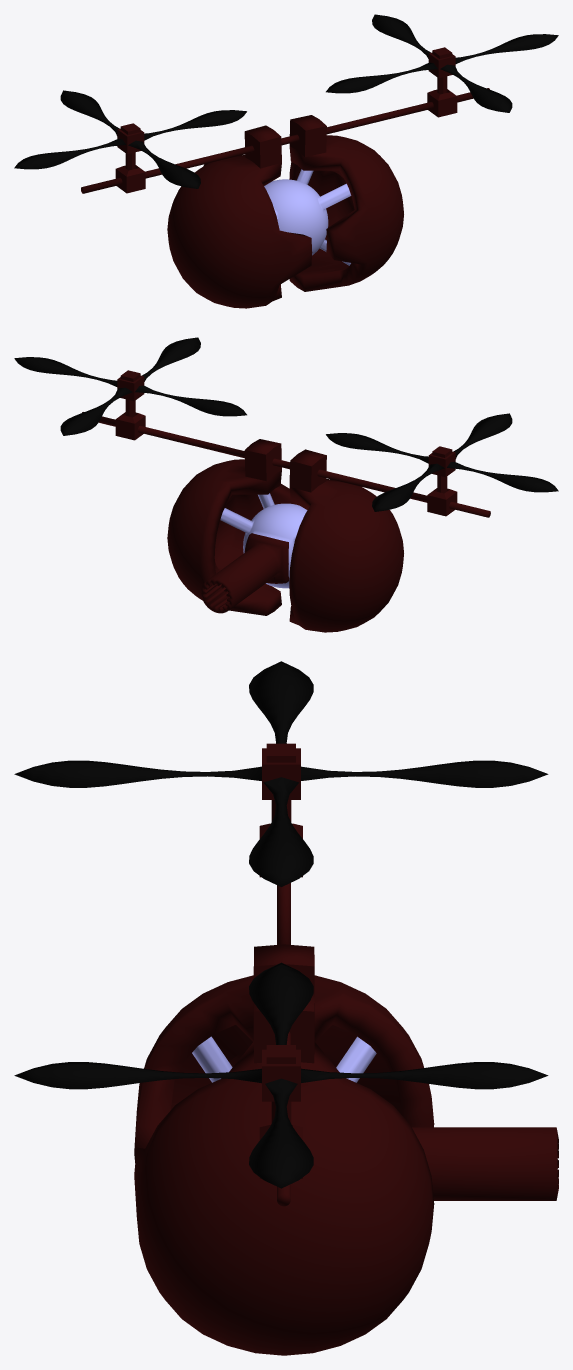
The model's file is GlassCannon.fbx.
3 renders of one model, top to bottom at view 1: azimuth 30°, elevation 25°; view 2: azimuth 150°, elevation 25°; view 3: azimuth 270°, elevation 25°, orthographic. The views are drawn at different scales.
Visible parts, largest first — view 1: glass_cannon, propeller_right, propeller_left; view 2: glass_cannon, propeller_right, propeller_left; view 3: glass_cannon, propeller_right, propeller_left.
Part boxes in pixels (bbox=[...]): glass_cannon: bbox=[81, 76, 489, 308]; propeller_right: bbox=[14, 90, 246, 188]; propeller_left: bbox=[326, 14, 558, 112]; glass_cannon: bbox=[82, 399, 490, 632]; propeller_right: bbox=[326, 413, 558, 511]; propeller_left: bbox=[14, 337, 246, 435]; glass_cannon: bbox=[134, 800, 558, 1355]; propeller_right: bbox=[14, 661, 548, 886]; propeller_left: bbox=[14, 962, 548, 1188].
Bounding box in the file's own units: 49571 × 17504 × 21649.
